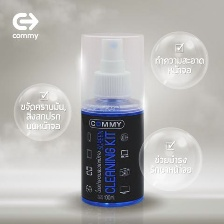cleaning_solution: (76, 30, 146, 210)
